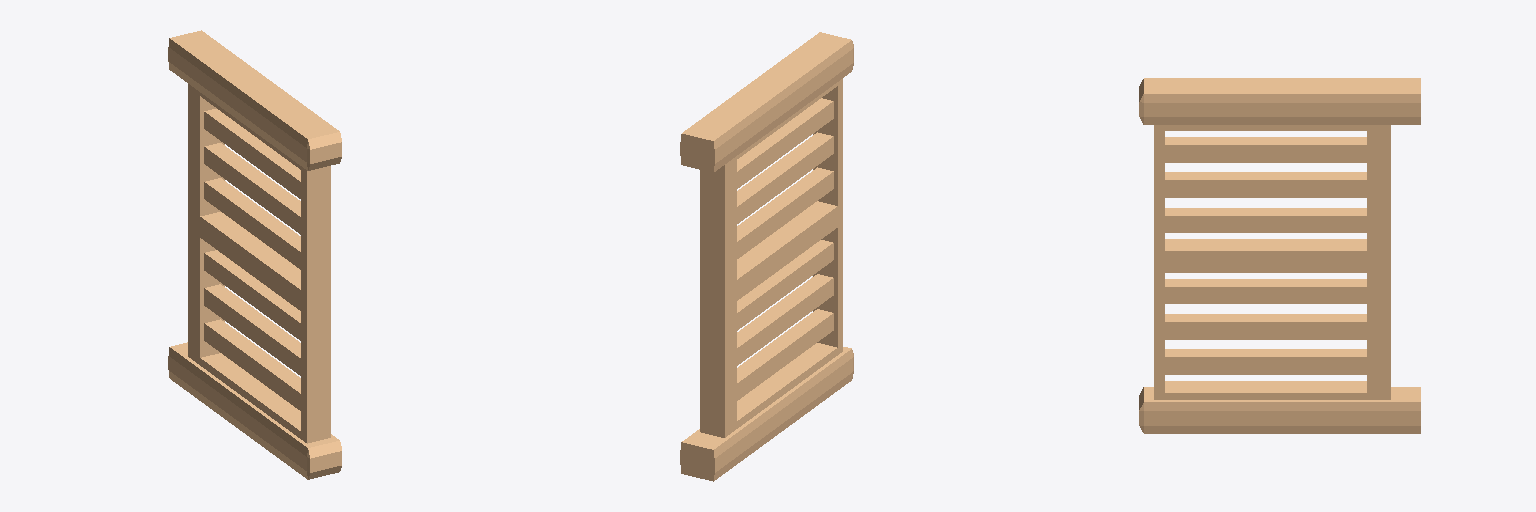
Rendered from fence.obj.
3 renders of one model, left to right at view 1: azimuth 30°, elevation 25°; view 2: azimuth 150°, elevation 25°; view 3: azimuth 270°, elevation 25°, orthographic.
Visible parts, largest first — view 1: Cube; view 2: Cube; view 3: Cube.
Part boxes in pixels (left/top/right/bottom): Cube: left=168, top=30, right=341, bottom=479; Cube: left=680, top=32, right=853, bottom=481; Cube: left=1139, top=78, right=1420, bottom=433.
Size of the model in its own units: 0.42 by 4 by 3.